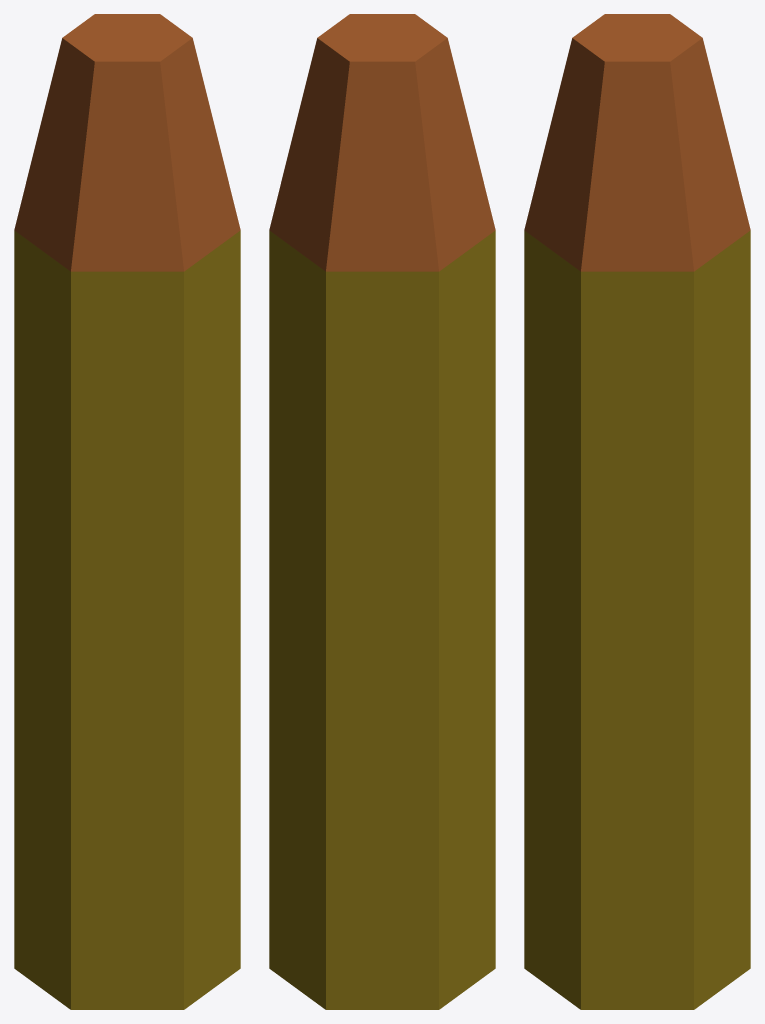
The model's file is Revolver_Bullet.fbx.
3 views of the same model, side by side, from view 1: azimuth 30°, elevation 25°; view 2: azimuth 150°, elevation 25°; view 3: azimuth 270°, elevation 25° (orthographic).
Visible parts, largest first — view 1: Revolver_Bullet; view 2: Revolver_Bullet; view 3: Revolver_Bullet.
Boxes of the visible parts, bbox=[...] form: Revolver_Bullet: bbox=[14, 14, 240, 1009]; Revolver_Bullet: bbox=[269, 14, 495, 1009]; Revolver_Bullet: bbox=[524, 14, 750, 1009].
Size of the model in its own units: 0.7855 by 4.11 by 0.9071.
